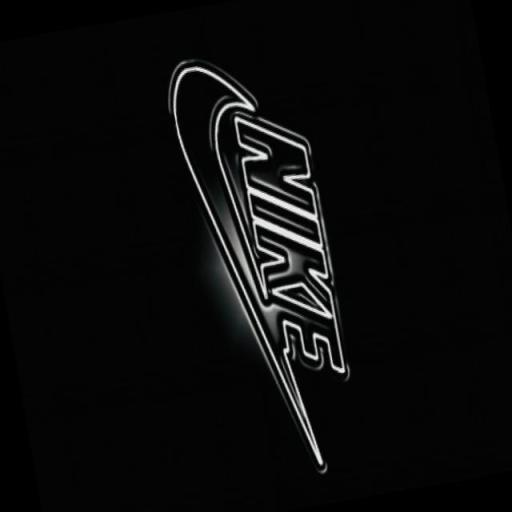Nike: (154, 47, 324, 483), (226, 97, 351, 390)
